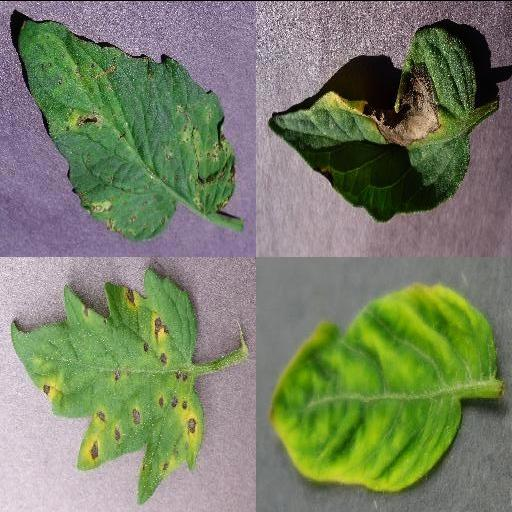Early Blight: (269, 26, 479, 220)
Septoria: (17, 19, 235, 239), (12, 265, 206, 500)
Yellow Leaf Curl Virus: (267, 282, 499, 490)
